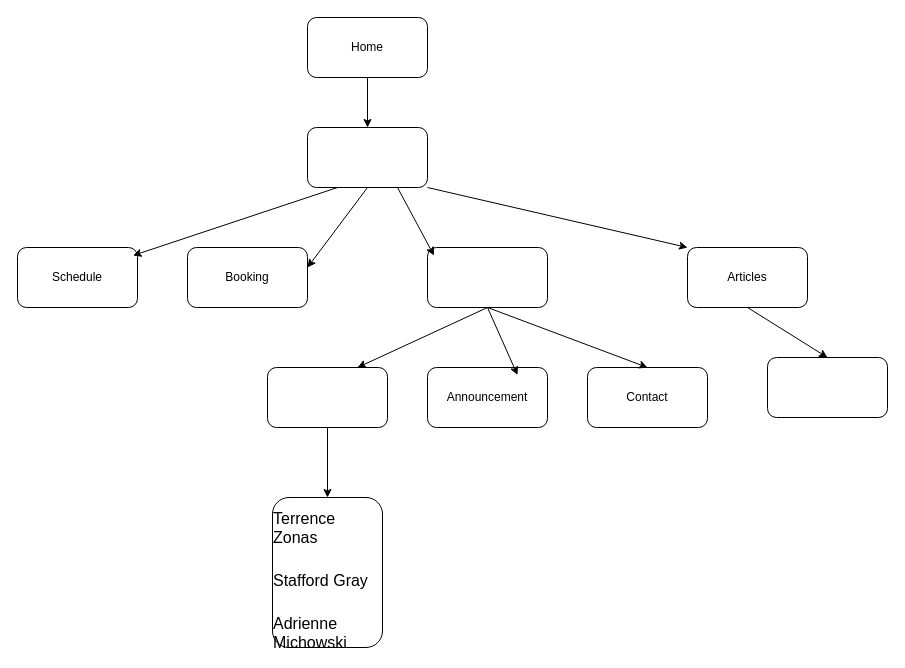
The diagram is 905 pixels wide and 668 high, and some of its shapes have lost their labels. The shapes that lost their labels are listed below. From the top down, each one's centre as x and y in pixels, then its label:
the point at 367,157: Training Sessions
the point at 487,277: Other Workplaces Topic
the point at 327,397: Paradigm Trainer
the point at 827,387: What is the Point of Perfromance? (Article itself)
